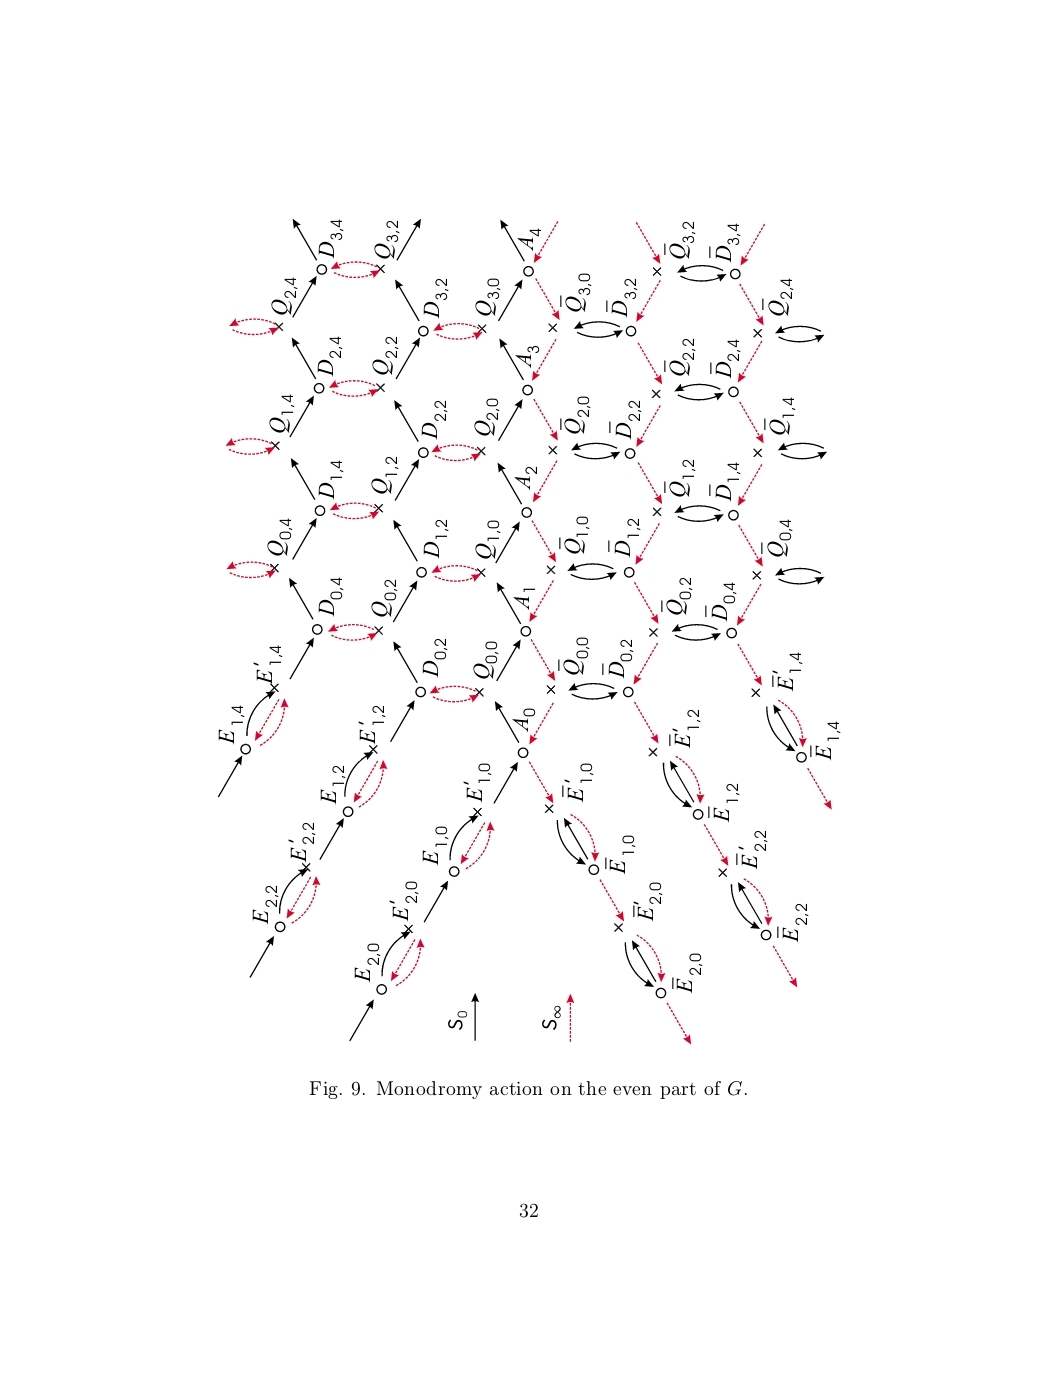figure: (217, 217, 840, 1045)
